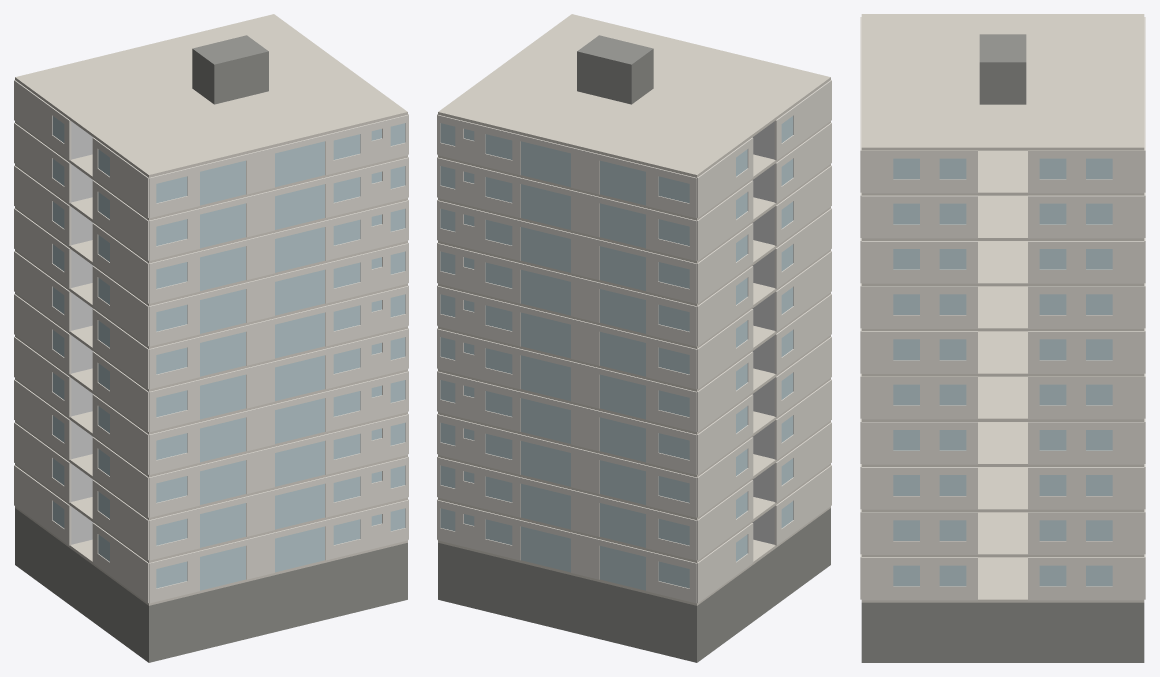
Rendered from residencial-vista-leve-v2.glb.
3 renders of one model, left to right at view 1: azimuth 30°, elevation 25°; view 2: azimuth 150°, elevation 25°; view 3: azimuth 270°, elevation 25°, orthographic. The views are drawn at different scales.
Visible parts, largest first — view 1: VIS__FACHADA, VIS__COBERTURA, TOWER__TA, VIS__NUCLEO, VIDRO__TA__F01__U104, VIDRO__TA__F04__U404, VIDRO__TA__F07__U704, VIDRO__TA__F09__U904, VIDRO__TA__F10__U1004, VIDRO__TA__F06__U604, VIDRO__TA__F05__U504, VIDRO__TA__F02__U204 (+32 smaller); view 2: VIS__FACHADA, VIS__COBERTURA, TOWER__TA, VIS__NUCLEO, VIDRO__TA__F01__U102, VIDRO__TA__F04__U402, VIDRO__TA__F07__U702, VIDRO__TA__F09__U902, VIDRO__TA__F10__U1002, VIDRO__TA__F06__U602, VIDRO__TA__F05__U502, VIDRO__TA__F02__U202 (+32 smaller); view 3: VIS__FACHADA, VIS__COBERTURA, TOWER__TA, VIS__NUCLEO, FLOOR__TA__F03, FLOOR__TA__F08, FLOOR__TA__F01, FLOOR__TA__F05, FLOOR__TA__F06, FLOOR__TA__F09, FLOOR__TA__F10, FLOOR__TA__F02 (+22 smaller).
Boxes of the visible parts, box(x1,y1,x2,y2) form: VIS__FACHADA: box(14, 80, 408, 603); VIS__COBERTURA: box(15, 14, 407, 177); TOWER__TA: box(15, 508, 407, 662); VIS__NUCLEO: box(192, 35, 268, 104); VIDRO__TA__F01__U104: box(275, 508, 405, 572); VIDRO__TA__F04__U404: box(275, 380, 405, 443); VIDRO__TA__F07__U704: box(275, 251, 405, 315); VIDRO__TA__F09__U904: box(275, 166, 405, 229); VIDRO__TA__F10__U1004: box(275, 123, 405, 187); VIDRO__TA__F06__U604: box(275, 294, 405, 358); VIDRO__TA__F05__U504: box(275, 337, 405, 400); VIDRO__TA__F02__U204: box(275, 465, 405, 529); VIS__FACHADA: box(437, 80, 831, 603); VIS__COBERTURA: box(438, 14, 830, 177); TOWER__TA: box(438, 508, 830, 662); VIS__NUCLEO: box(577, 35, 653, 104); VIDRO__TA__F01__U102: box(440, 508, 570, 572); VIDRO__TA__F04__U402: box(440, 380, 570, 443); VIDRO__TA__F07__U702: box(440, 251, 570, 315); VIDRO__TA__F09__U902: box(440, 166, 570, 229); VIDRO__TA__F10__U1002: box(440, 123, 570, 187); VIDRO__TA__F06__U602: box(440, 294, 570, 358); VIDRO__TA__F05__U502: box(440, 337, 570, 400); VIDRO__TA__F02__U202: box(440, 465, 570, 529); VIS__FACHADA: box(860, 17, 1145, 600); VIS__COBERTURA: box(861, 14, 1144, 150); TOWER__TA: box(861, 602, 1144, 662); VIS__NUCLEO: box(979, 34, 1026, 104); FLOOR__TA__F03: box(861, 467, 1144, 512); FLOOR__TA__F08: box(861, 241, 1144, 286); FLOOR__TA__F01: box(861, 557, 1144, 602); FLOOR__TA__F05: box(861, 376, 1144, 421); FLOOR__TA__F06: box(861, 331, 1144, 376); FLOOR__TA__F09: box(861, 195, 1144, 240); FLOOR__TA__F10: box(861, 150, 1144, 195); FLOOR__TA__F02: box(861, 512, 1144, 557).
Bounding box in the file's own units: 19.15 × 37 × 17.15.
